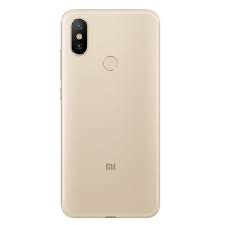mi: (59, 6, 159, 219)
